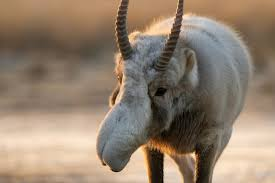saiga: (93, 1, 252, 183)
